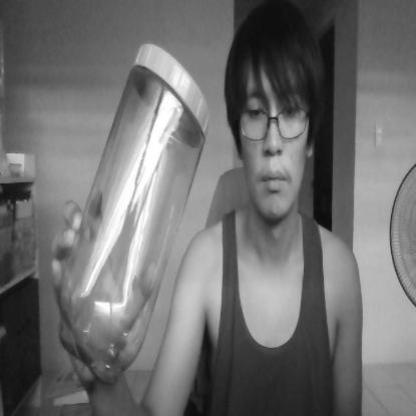Plastic Bottle: (60, 41, 210, 386)
